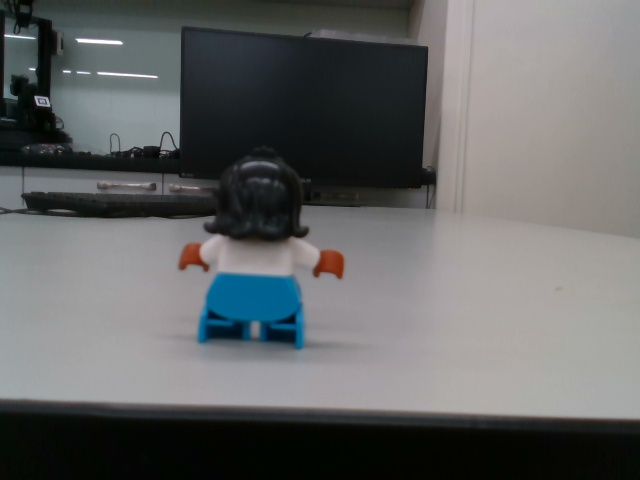people: (177, 146, 347, 348)
